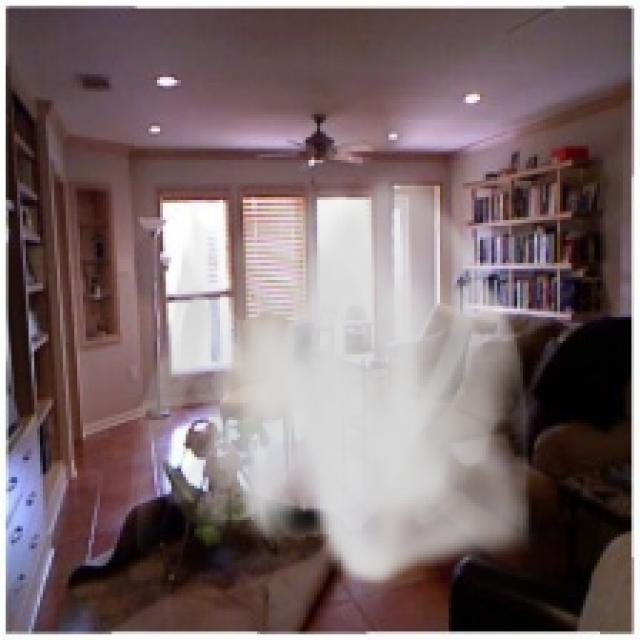Smoke: (126, 162, 543, 588)
